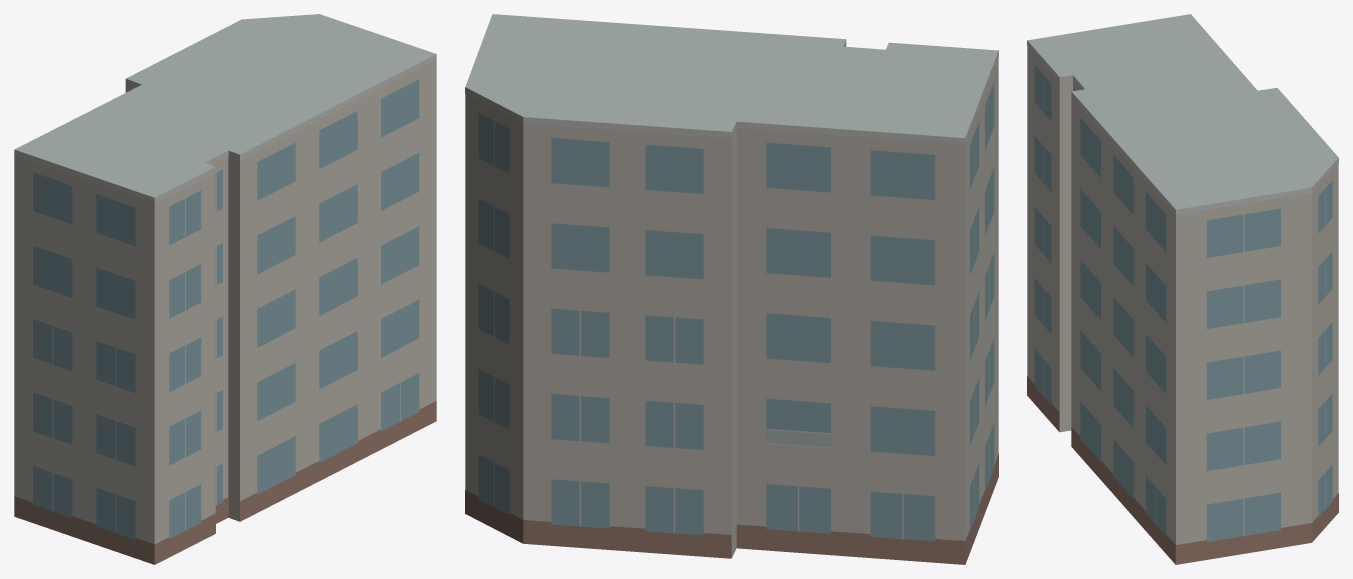
Rendered from survey-upis-32887466.glb.
The picture shows the model from 3 angles, left to right: view 1: azimuth 30°, elevation 25°; view 2: azimuth 150°, elevation 25°; view 3: azimuth 270°, elevation 25°; orthographic projection. The views are drawn at different scales.
Visible parts, largest first — view 1: survey-upis-32887466.tmp; view 2: survey-upis-32887466.tmp; view 3: survey-upis-32887466.tmp.
Boxes of the visible parts, left/top/right/bottom form: survey-upis-32887466.tmp: left=14, top=14, right=436, bottom=564; survey-upis-32887466.tmp: left=465, top=14, right=998, bottom=564; survey-upis-32887466.tmp: left=1027, top=14, right=1338, bottom=564.
Bounding box in the file's own units: 19.04 × 16.1 × 12.81.
